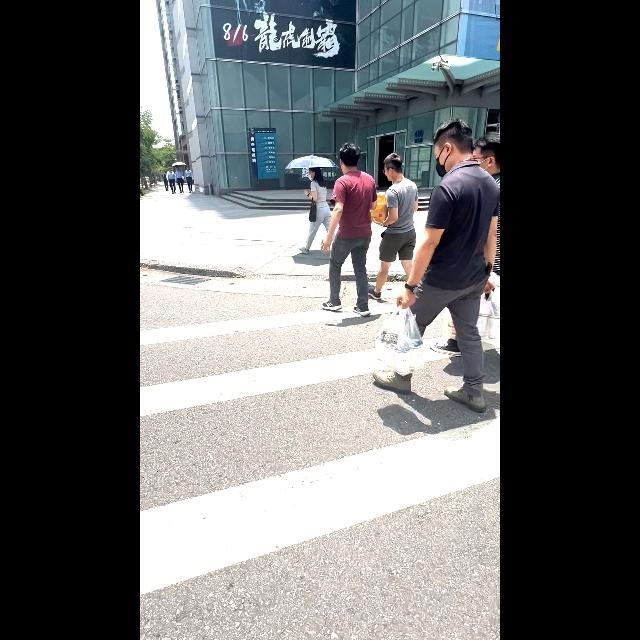sidewalk: (142, 313, 496, 639)
